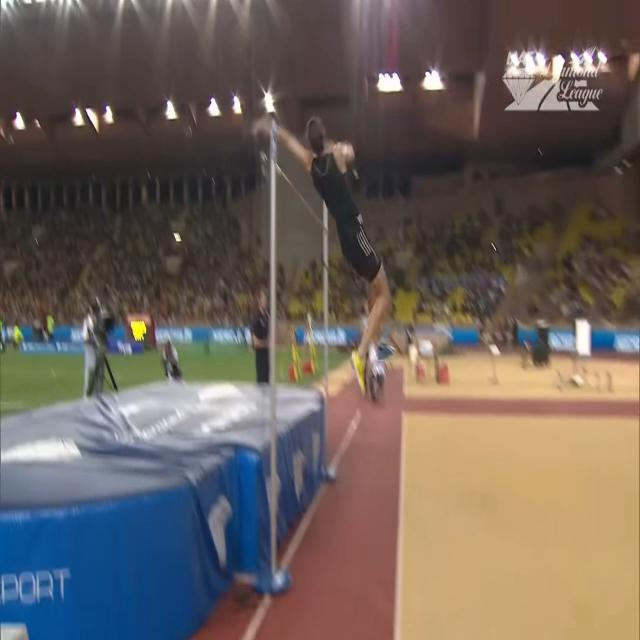jump: (250, 112, 393, 404)
